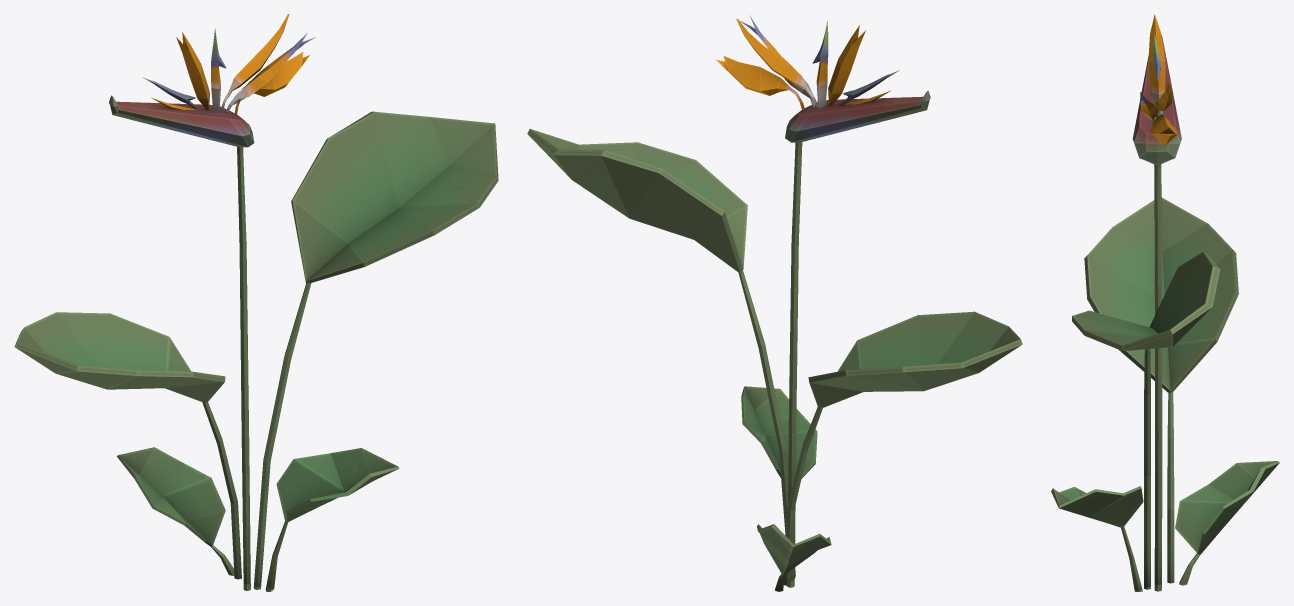
The model's file is BirdsOfParadise.fbx.
3 renders of one model, left to right at view 1: azimuth 30°, elevation 25°; view 2: azimuth 150°, elevation 25°; view 3: azimuth 270°, elevation 25°, orthographic. The views are drawn at different scales.
Visible parts, largest first — view 1: BirdsOfParadisePottedPlant; view 2: BirdsOfParadisePottedPlant; view 3: BirdsOfParadisePottedPlant.
Part boxes in pixels (box(x1,y1,x2,y2)): BirdsOfParadisePottedPlant: box(14, 14, 498, 591); BirdsOfParadisePottedPlant: box(527, 14, 1022, 591); BirdsOfParadisePottedPlant: box(1051, 14, 1279, 591).
Bounding box in the file's own units: 358 × 403 × 153.
1 material, 1 textured.
